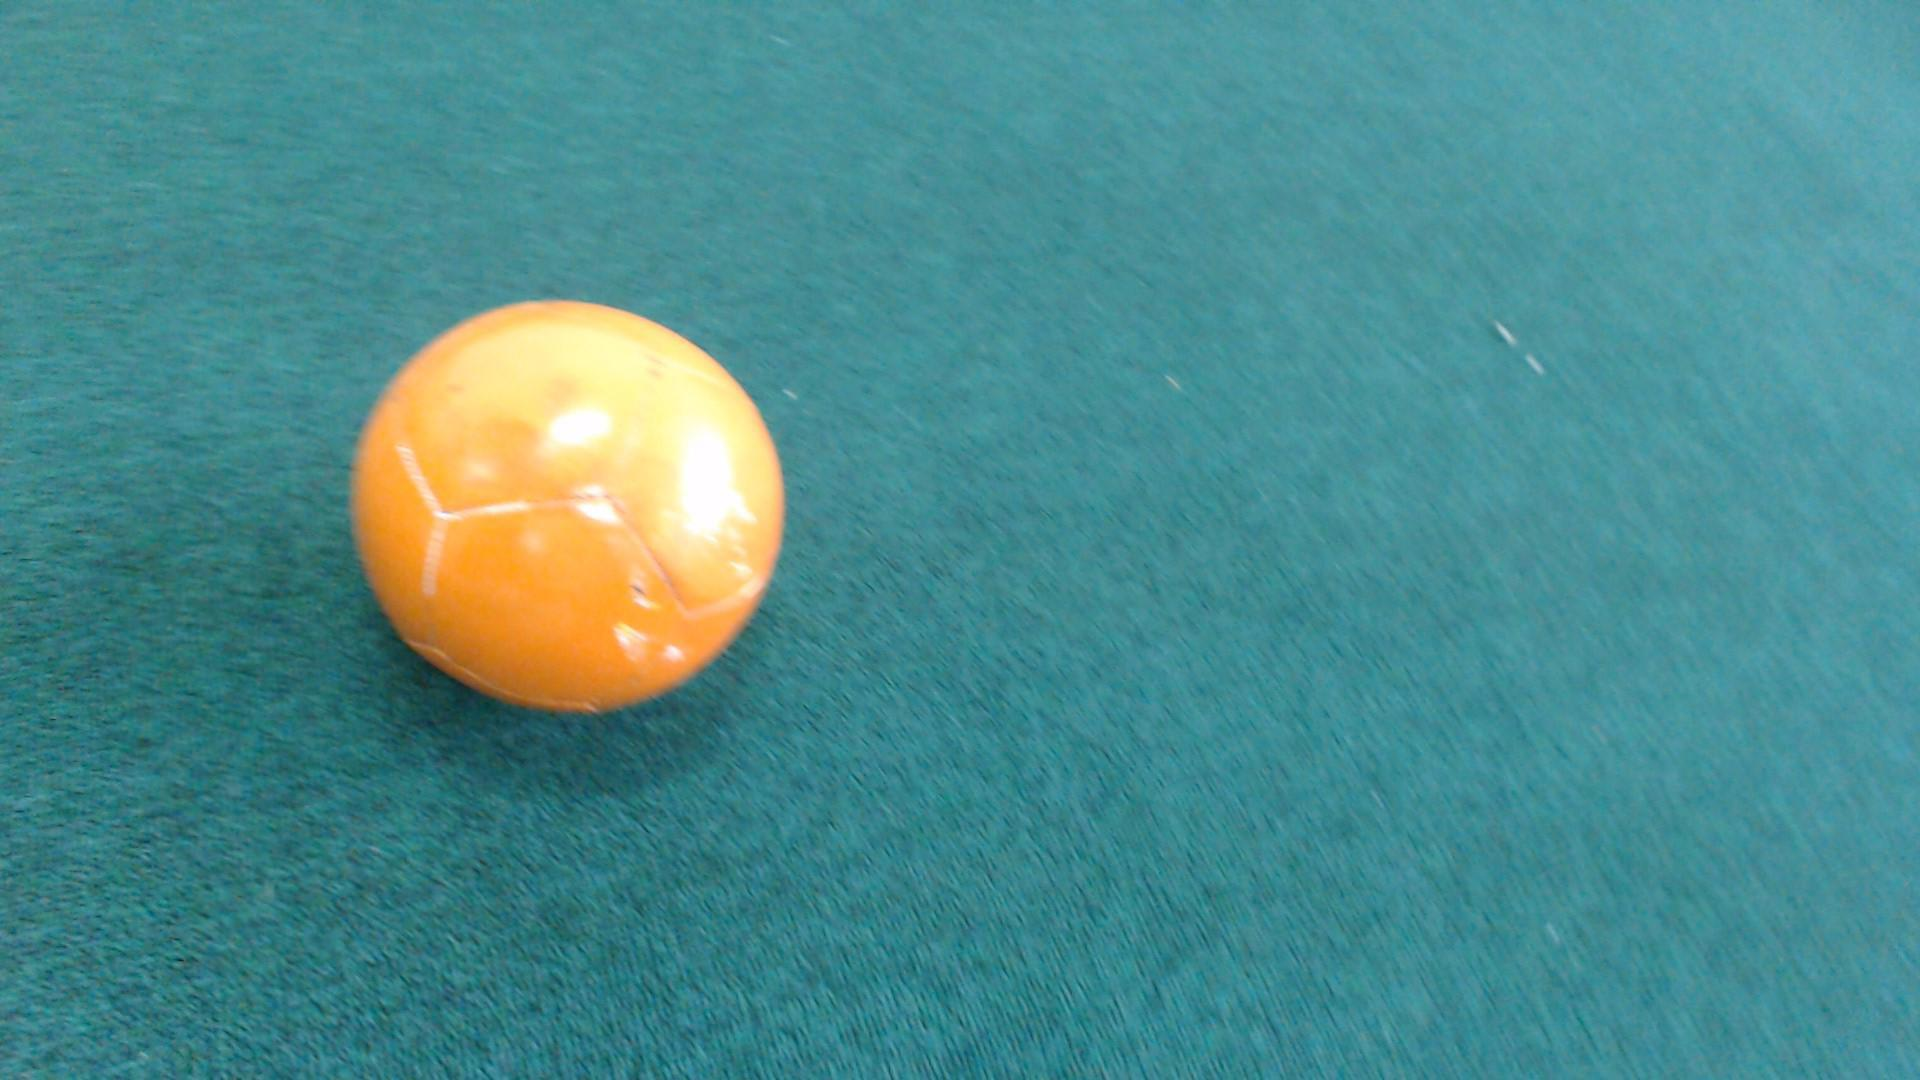bola: (310, 257, 803, 728)
